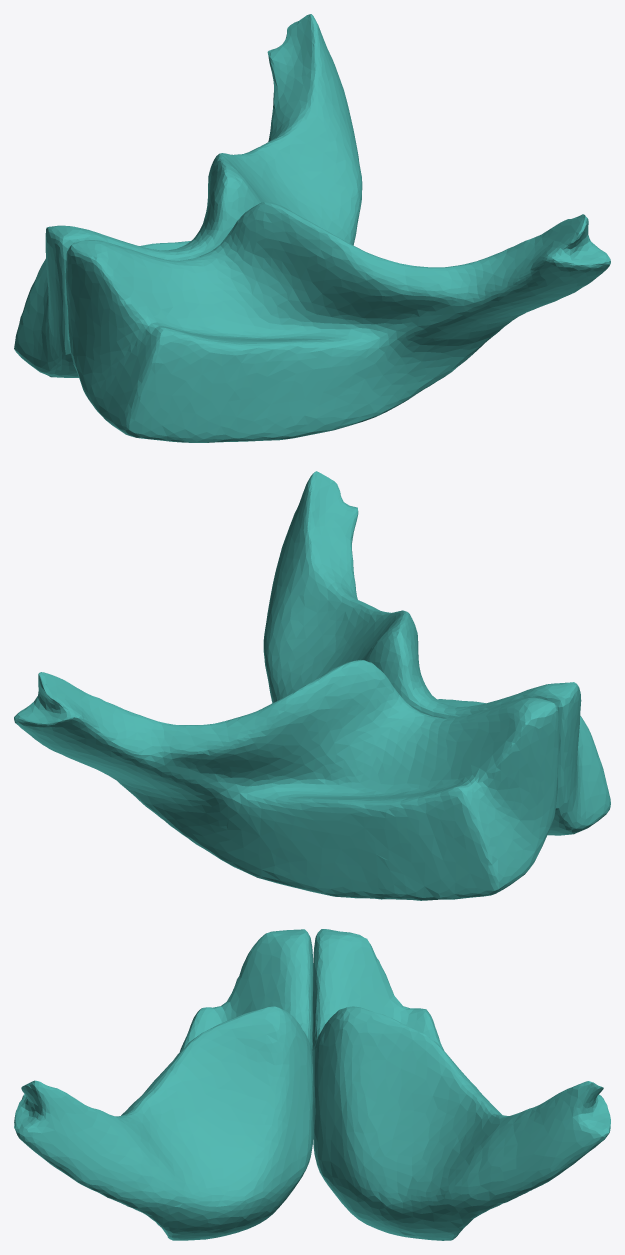
3 renders of one model, top to bottom at view 1: azimuth 30°, elevation 25°; view 2: azimuth 150°, elevation 25°; view 3: azimuth 270°, elevation 25°, orthographic.
Parts seen in each view (by area): view 1: 254.obj; view 2: 254.obj; view 3: 254.obj.
Part boxes in pixels (bbox=[...]): 254.obj: bbox=[14, 14, 610, 442]; 254.obj: bbox=[14, 471, 610, 900]; 254.obj: bbox=[14, 929, 610, 1240].
Bounding box in the file's own units: 4277 × 2214 × 5394.
